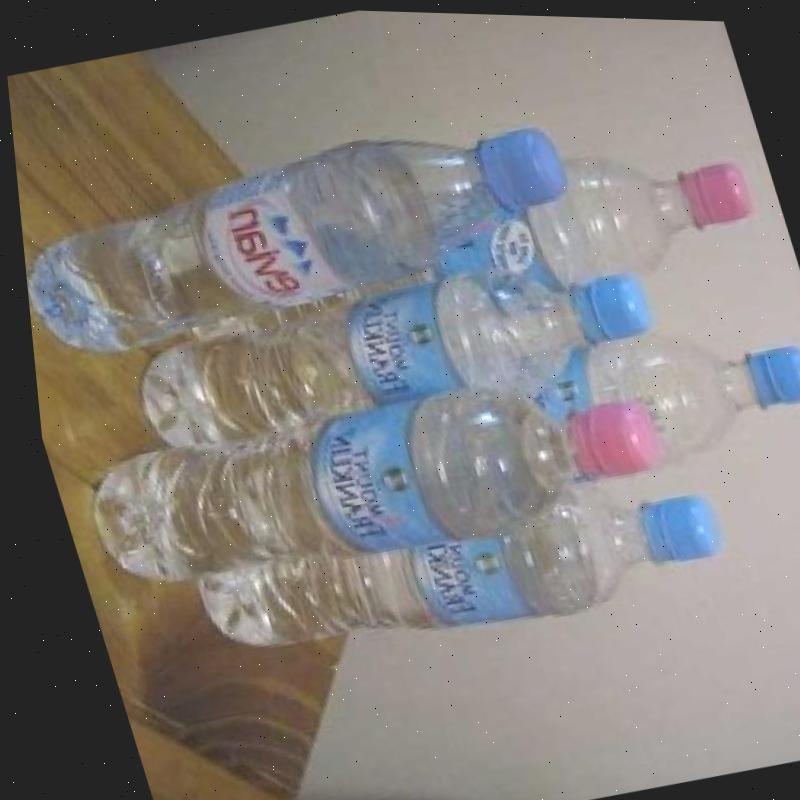botella: (7, 89, 593, 376), (152, 110, 776, 375), (63, 344, 671, 615), (110, 236, 669, 472), (172, 463, 727, 688), (507, 289, 800, 489)
